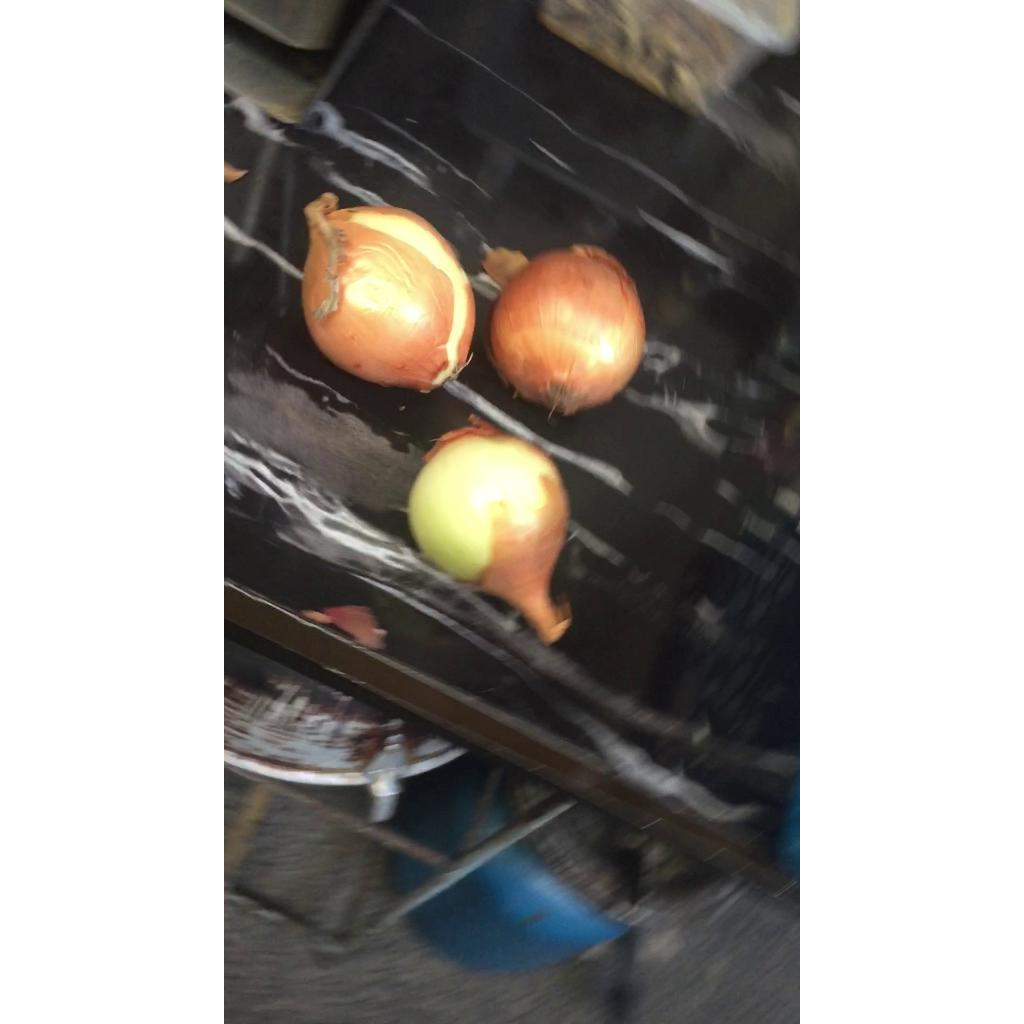Onion: (407, 418, 571, 644), (300, 192, 474, 391), (489, 244, 644, 415)
